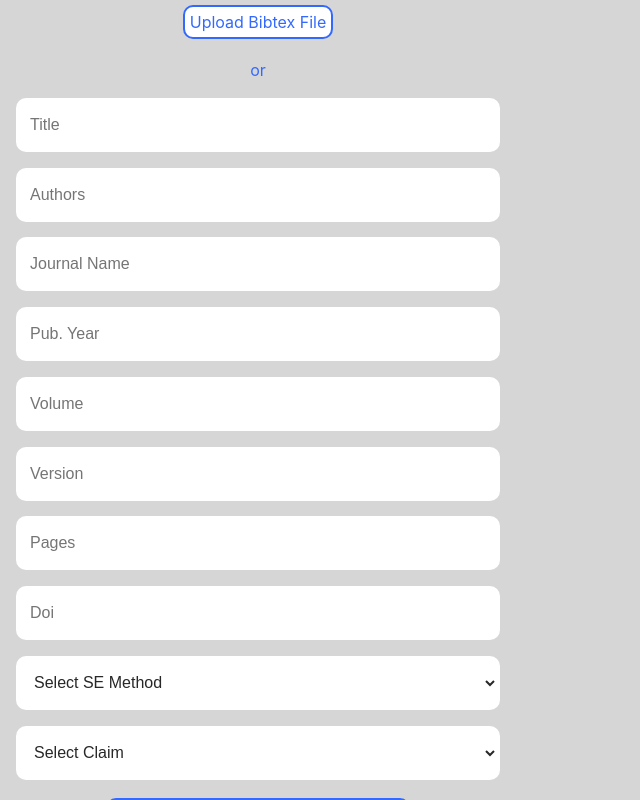
Test: validation of leaving field without input
This screenshot has width=640, height=800.
Click the field with placeholder "Title" at coordinates (258, 125), box [18,100,498,150]
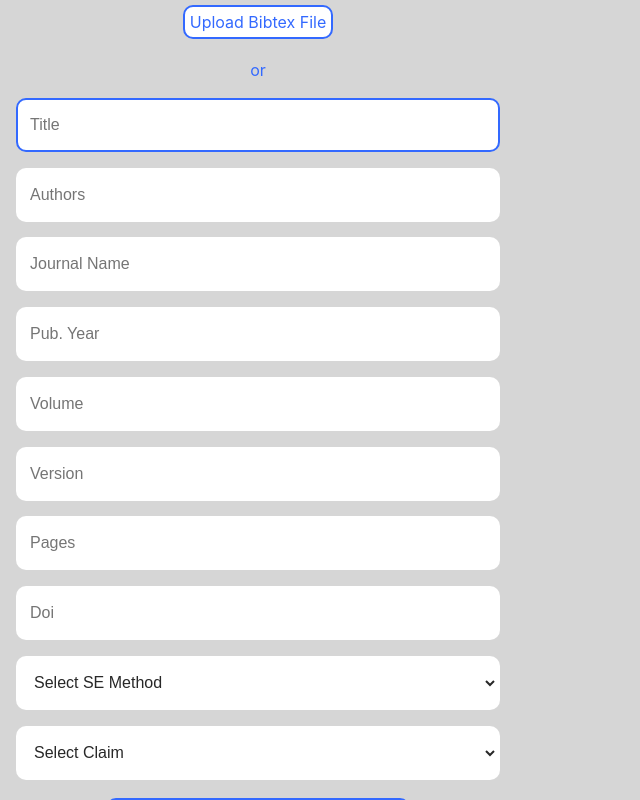
Click the field with placeholder "Authors" at coordinates (258, 195), box [18,170,498,220]
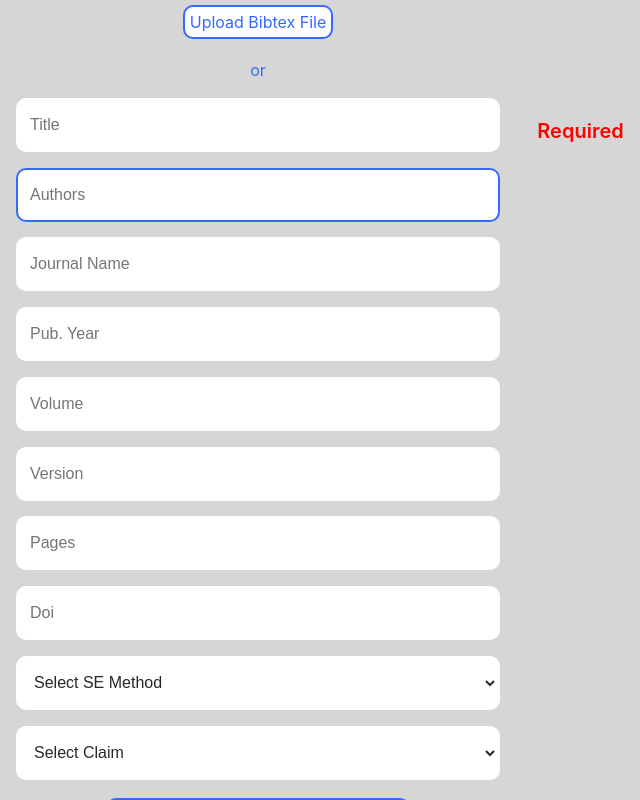
Result: the text "Required" is shown at [532,119,624,143]
